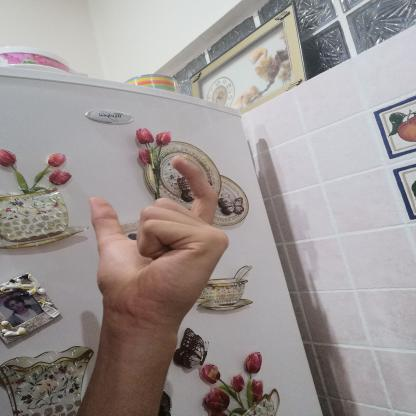NOON: (74, 148, 241, 334)
